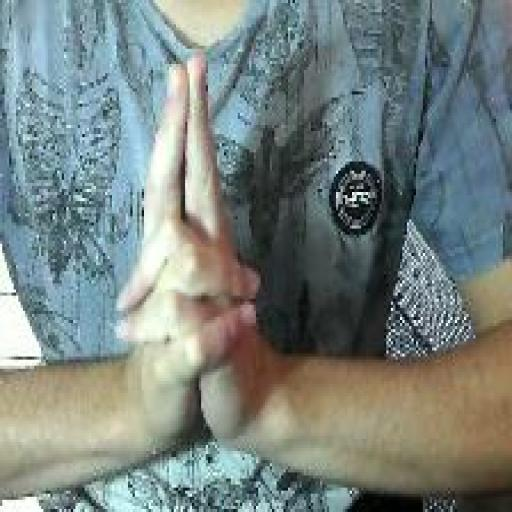Tora -tiger-: (111, 46, 266, 457)
